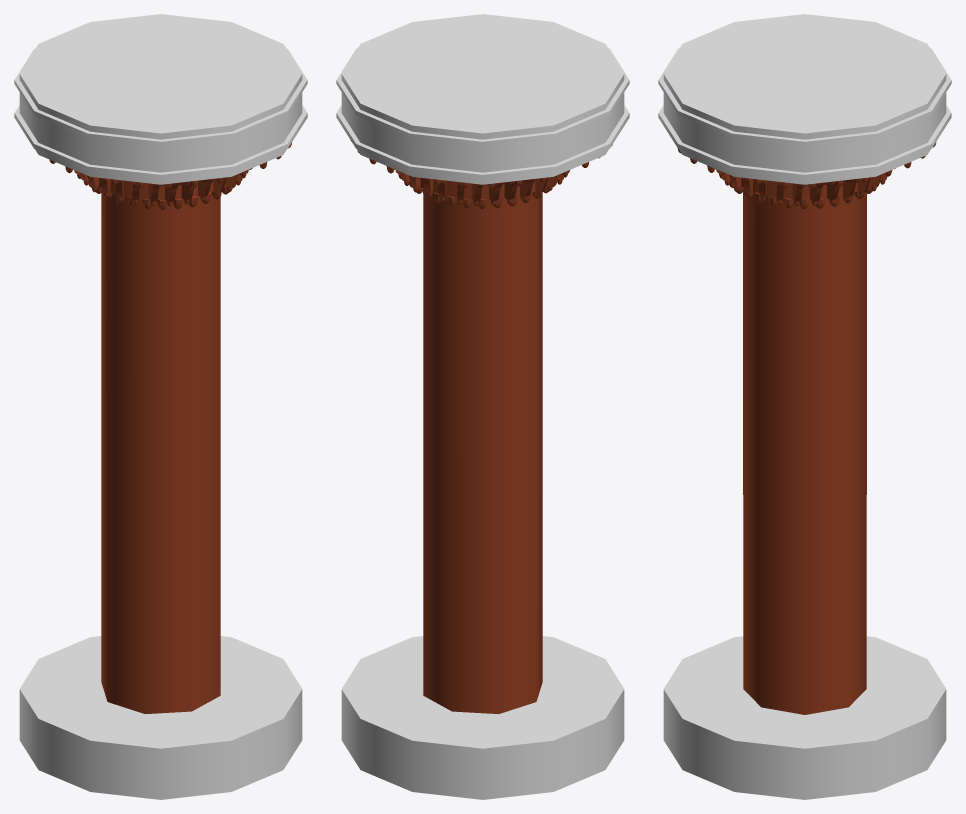
File: pilar.fbx
3 renders of one model, left to right at view 1: azimuth 30°, elevation 25°; view 2: azimuth 150°, elevation 25°; view 3: azimuth 270°, elevation 25°, orthographic.
Parts seen in each view (by area): view 1: polySurface149, pCylinder7, pCylinder5, polySurface370, polySurface150; view 2: polySurface149, pCylinder7, pCylinder5, polySurface370, polySurface150; view 3: polySurface149, pCylinder7, pCylinder5, polySurface370, polySurface150.
Boxes of the visible parts, <box> form: polySurface149: <box>101,192,220,713</box>; pCylinder7: <box>14,14,307,184</box>; pCylinder5: <box>19,636,302,799</box>; polySurface370: <box>88,181,236,209</box>; polySurface150: <box>98,178,225,199</box>; polySurface149: <box>423,192,542,713</box>; pCylinder7: <box>336,14,629,184</box>; pCylinder5: <box>341,636,624,799</box>; polySurface370: <box>409,180,556,209</box>; polySurface150: <box>420,178,535,199</box>; polySurface149: <box>743,191,866,714</box>; pCylinder7: <box>658,14,951,184</box>; pCylinder5: <box>663,636,946,799</box>; polySurface370: <box>729,180,879,209</box>; polySurface150: <box>741,177,869,199</box>.
Size of the model in its own units: 259 by 650 by 259.
